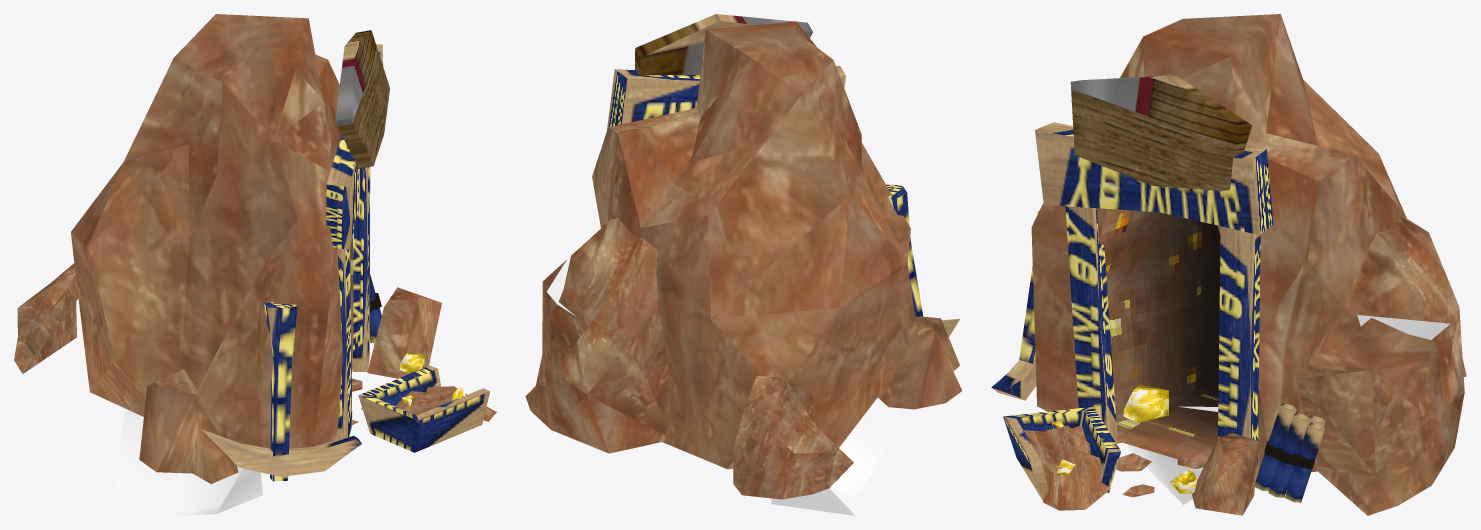
3 renders of one model, left to right at view 1: azimuth 30°, elevation 25°; view 2: azimuth 150°, elevation 25°; view 3: azimuth 270°, elevation 25°, orthographic. The views are drawn at different scales.
Visible parts, largest first — view 1: rock, wood_doorframe, rock4, pick, box, sign, rock3, rock02, plant2, plant22, rock_dirt; view 2: rock, rock1, rock3, rock4, wood_doorframe, sign, plant2, pick, plant22, plant3; view 3: rock, rock1, wood_doorframe, inside_rocks, sign, rock_dirt, box, rock02, pick, plant2, gold_nugget, Cylinder04 (+4 smaller).
Boxes of the visible parts, x1,y1,x2,y2 form: rock: (71, 14, 342, 448); wood_doorframe: (326, 44, 383, 440); rock4: (139, 369, 238, 483); pick: (201, 302, 361, 481); box: (358, 365, 489, 452); sign: (335, 30, 389, 168); rock3: (14, 263, 78, 373); rock02: (367, 287, 441, 378); plant2: (171, 466, 262, 515); plant22: (116, 409, 178, 490); rock_dirt: (395, 386, 496, 421); rock: (592, 21, 918, 469); rock1: (525, 217, 669, 453); rock3: (733, 376, 853, 499); rock4: (878, 316, 962, 409); wood_doorframe: (607, 66, 845, 130); sign: (634, 14, 812, 75); plant2: (831, 413, 886, 500); pick: (886, 184, 959, 337); plant22: (771, 488, 855, 515); plant3: (546, 247, 605, 341); rock: (1031, 14, 1406, 473); rock1: (1297, 216, 1464, 515); wood_doorframe: (1035, 122, 1273, 481); inside_rocks: (1073, 209, 1266, 472); sign: (1070, 75, 1251, 191); rock_dirt: (1023, 425, 1110, 510); box: (1003, 406, 1120, 500); rock02: (1191, 433, 1258, 515); pick: (991, 210, 1039, 400); plant2: (1127, 406, 1218, 504); gold_nugget: (1123, 385, 1168, 423); Cylinder04: (1268, 412, 1309, 497).
Size of the model in its own units: 230 by 284 by 244.
29 materials, 25 textured.
